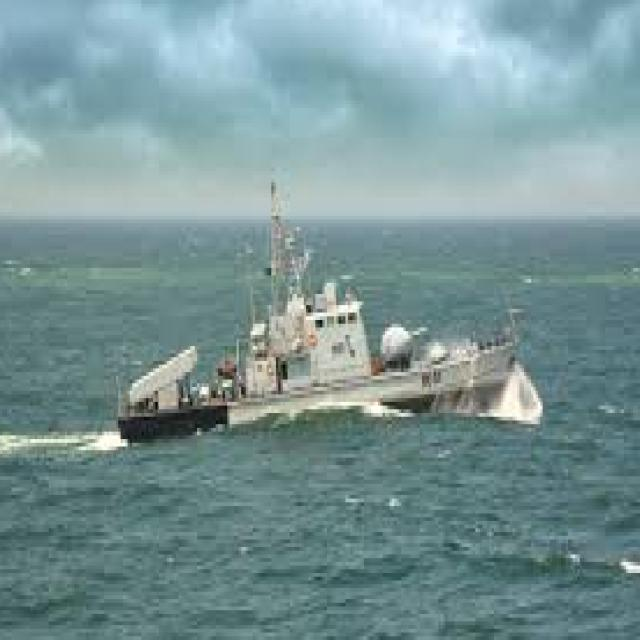navalvessels: (115, 200, 541, 436)
